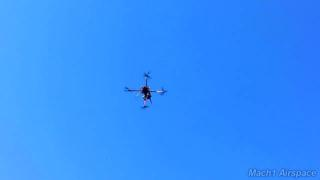UAV: (125, 71, 168, 110)
